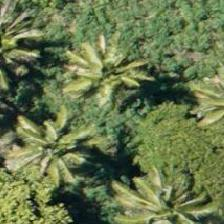coconut_tree: (66, 26, 156, 116), (6, 104, 96, 194), (121, 166, 211, 223), (168, 129, 223, 219)
